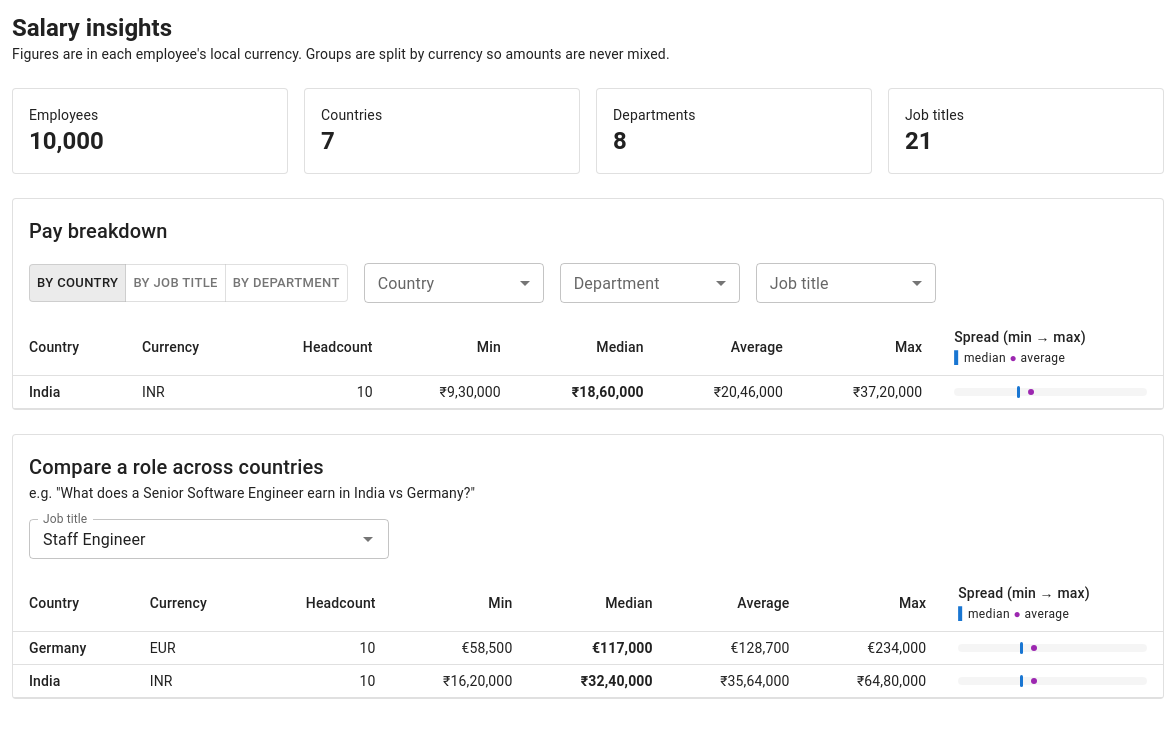
it: InsightsPage › regroups the breakdown when a different dimension is chosen
This screenshot has width=1164, height=732.
Expected: the table named "Pay breakdown" is shown, top-left (13, 319), bottom-right (1163, 409)
Click the button "By department" at (286, 283), box top-left (225, 264), bottom-right (348, 302)
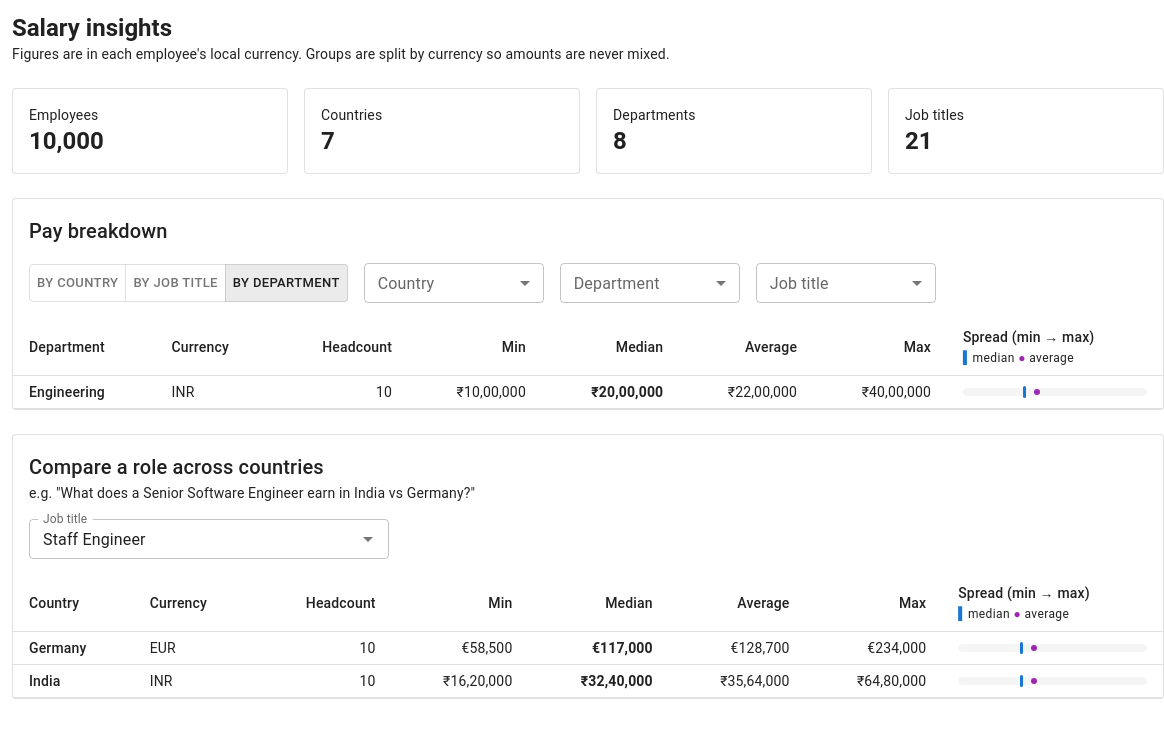
Expected: the text "Engineering" is shown, top-left (13, 376), bottom-right (156, 408)
